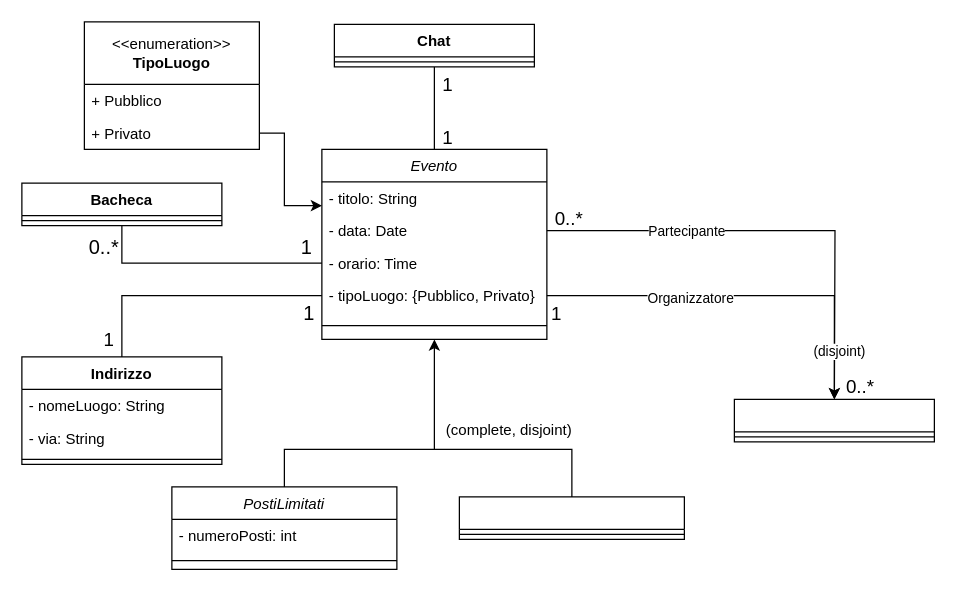
This 956x591 diagram has some shape labels left out. Here are the shapes that lost their labels. From the top down, the centre of each, then its label:
At [833,420]: "Utente".
At [571,517]: "PostiIllimitati".
